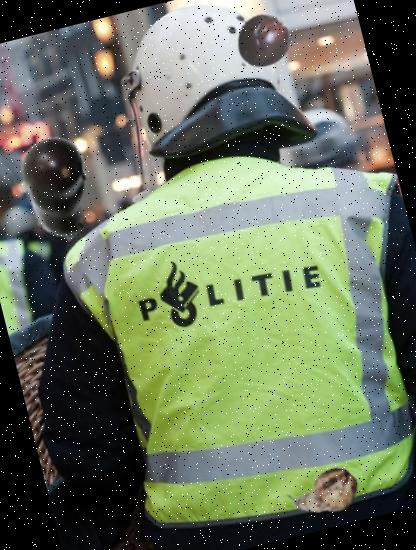Eggplant: (0, 122, 125, 257)
Passion: (230, 7, 297, 74)
Pear: (287, 453, 365, 531)
